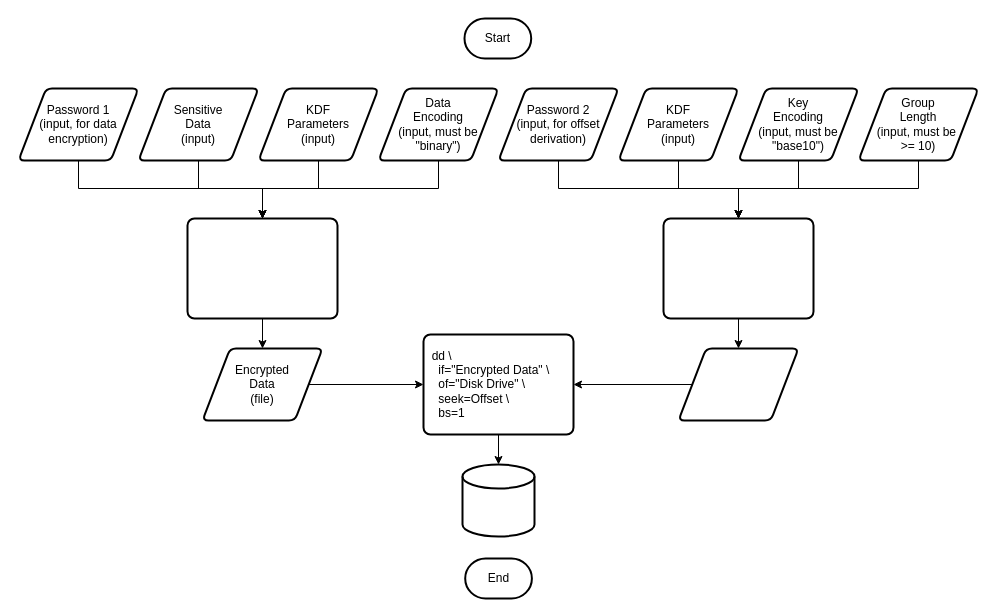
Image size: 996x616. Some labels were removed from this diagram. Here are the shapes that lost their labels. From the top down, the centre of each, then its label:
At pixel 262 268: "Encrypt-Password( Password 1, Sensitive Data, KDF Parameters, Data Encoding )".
At pixel 738 268: "KDF( Password 2, KDF Parameters, Key Encoding, Group Length )".
At pixel 738 384: "Offset (printed)".
At pixel 498 500: "Disk Drive".
